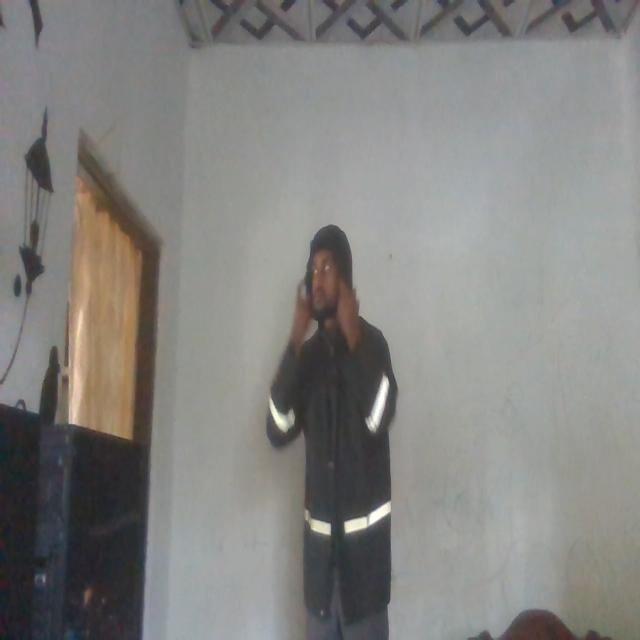Jacket_Wearer: (262, 302, 398, 616)
Person: (263, 210, 397, 640)
